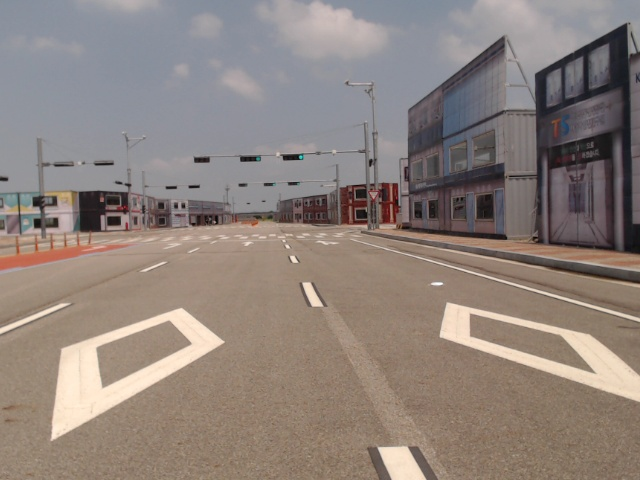straight_green_4: (281, 152, 305, 161), (240, 155, 261, 161), (263, 182, 277, 187), (287, 181, 301, 186)
